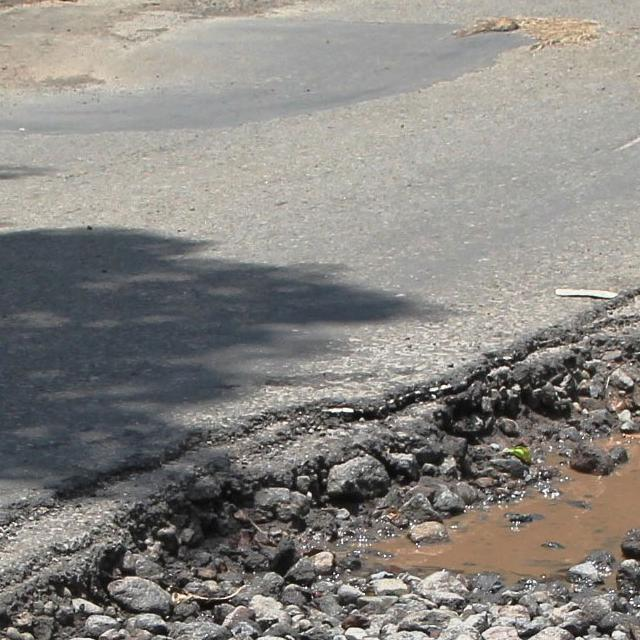lubang_kecil: (0, 262, 640, 640)
